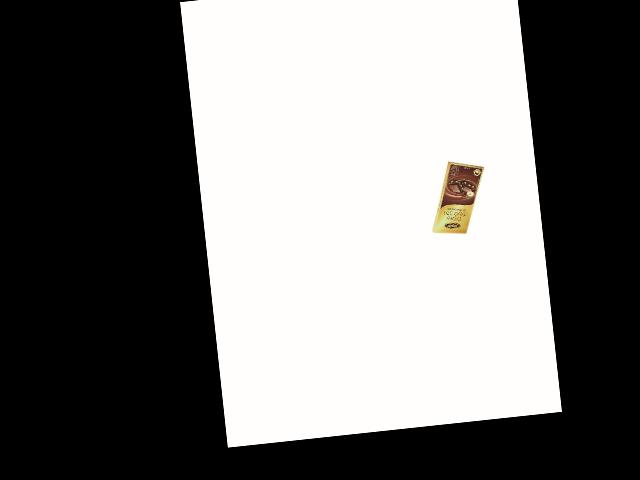chocolate: (422, 151, 490, 237)
